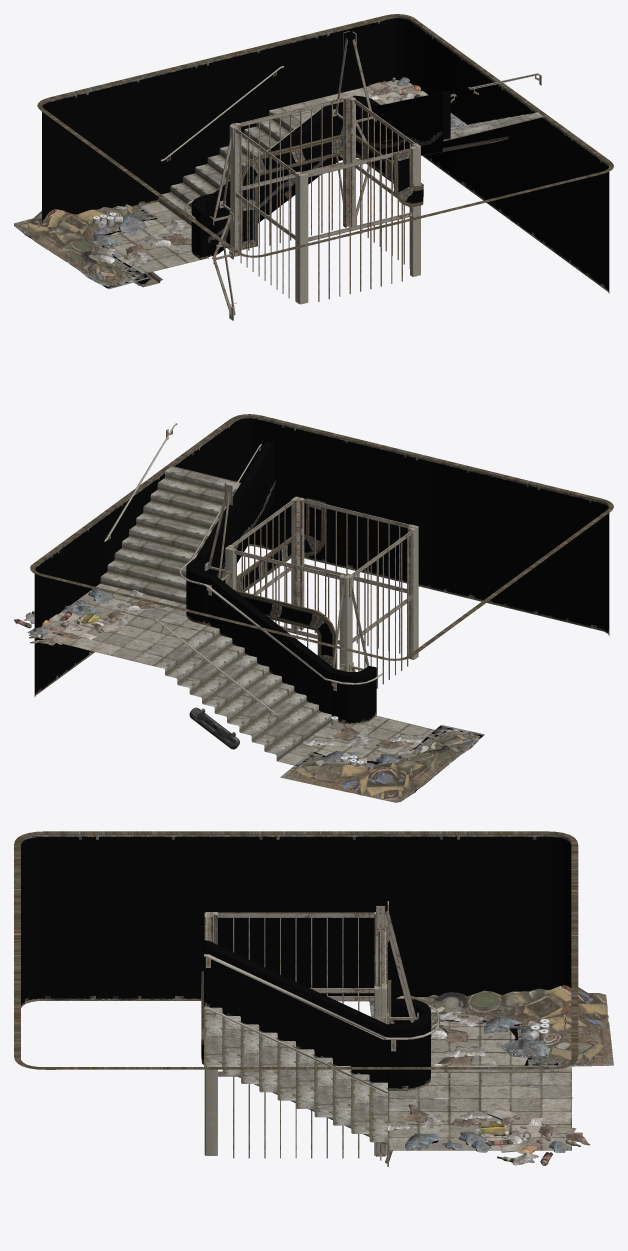
File: link-stairwell-a-300.glb
3 views of the same model, one above another, from view 1: azimuth 30°, elevation 25°; view 2: azimuth 150°, elevation 25°; view 3: azimuth 270°, elevation 25° (orthographic). The views are drawn at different scales.
Parts seen in each view (by area): view 1: stairwell_300_LOD0, junk_pile_Lshape_b, ground_cloth_a, ground_junk_a; view 2: stairwell_300_LOD0, junk_pile_Lshape_b, ground_cloth_a, ground_junk_a, ground_cloth_a (1), FluorescentLight_LOD0; view 3: stairwell_300_LOD0, junk_pile_Lshape_b, ground_cloth_a, ground_junk_a, ground_cloth_a (1).
Part boxes in pixels (x1,y1,x2,y2): stairwell_300_LOD0: (37,14,613,320); junk_pile_Lshape_b: (14,204,159,289); ground_cloth_a: (91,215,191,266); ground_junk_a: (369,77,427,104); stairwell_300_LOD0: (29,414,613,765); junk_pile_Lshape_b: (280,725,484,802); ground_cloth_a: (303,723,428,767); ground_junk_a: (14,605,106,645); ground_cloth_a (1): (73,588,164,628); FluorescentLight_LOD0: (189,707,239,749); stairwell_300_LOD0: (14,831,578,1166); junk_pile_Lshape_b: (369,985,613,1066); ground_cloth_a: (431,1011,550,1065); ground_junk_a: (471,1117,590,1165); ground_cloth_a (1): (388,1104,511,1150).
Size of the model in its own units: 9.9 by 6 by 9.78.
Materials: 8 (8 with a texture image).
